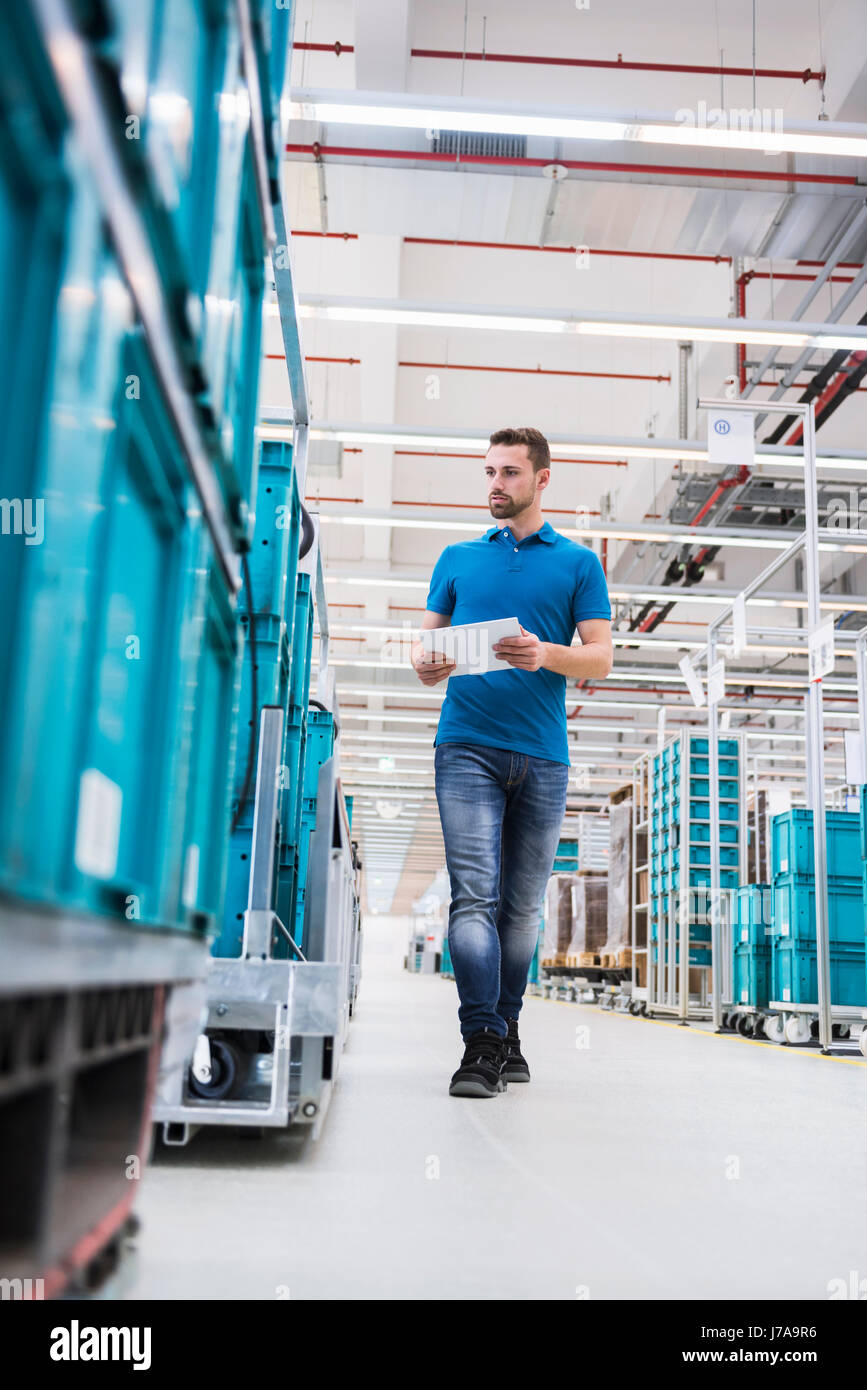person: (415, 432, 615, 1098)
